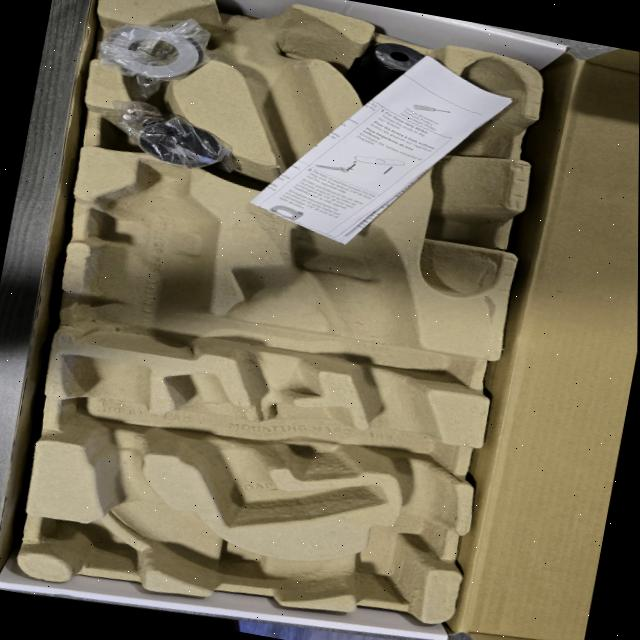1m: (62, 0, 455, 596)
2m: (162, 371, 385, 528)
3m: (74, 155, 220, 361)
4m: (417, 58, 530, 297)
5o: (350, 42, 430, 108)
6: (97, 17, 213, 103)
7: (108, 101, 251, 172)
8: (247, 53, 515, 245)
